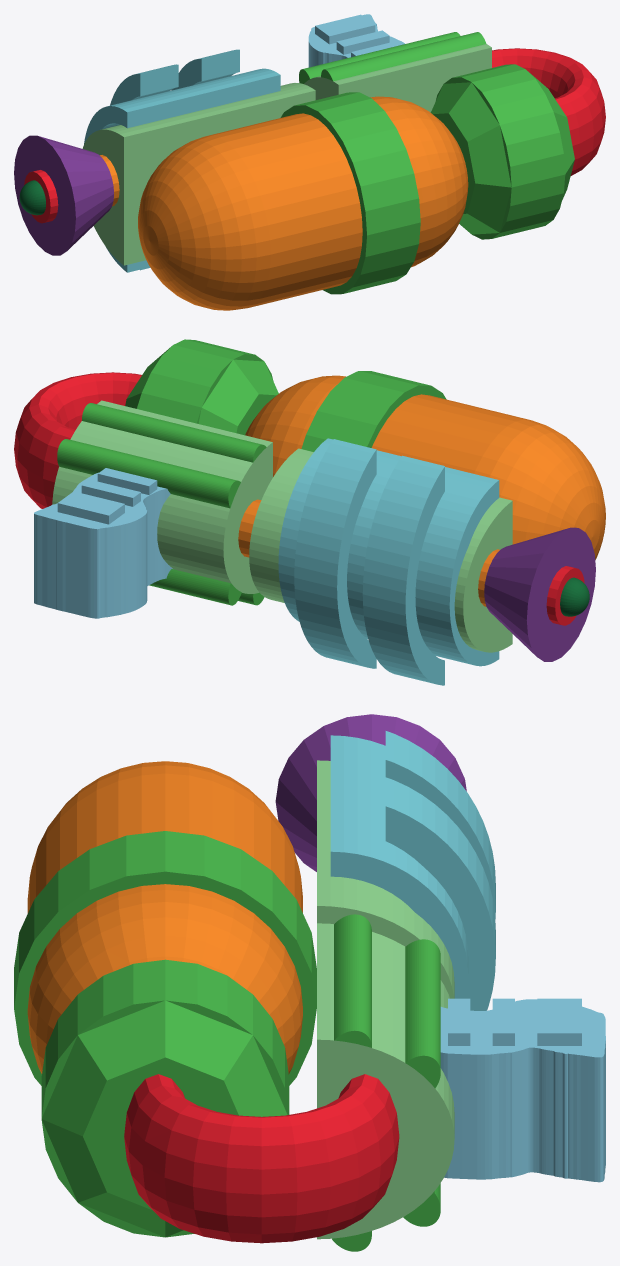
File: tinker.obj
3 renders of one model, top to bottom at view 1: azimuth 30°, elevation 25°; view 2: azimuth 150°, elevation 25°; view 3: azimuth 270°, elevation 25°, orthographic. The views are drawn at different scales.
Parts seen in each view (by area): view 1: group_0_16089887, group_0_4634441, group_0_9229454, group_0_7720667, group_0_8273816, group_0_15277357, group_0_8768998, group_0_1206582; view 2: group_0_7720667, group_0_4634441, group_0_16089887, group_0_9229454, group_0_8768998, group_0_8273816, group_0_15277357, group_0_1206582; view 3: group_0_4634441, group_0_16089887, group_0_15277357, group_0_8768998, group_0_7720667, group_0_9229454, group_0_8273816.
Boxes of the visible parts, box(x1,y1,x2,y2) form: group_0_16089887: box(100, 96, 468, 310); group_0_4634441: box(280, 32, 574, 294); group_0_9229454: box(82, 44, 491, 265); group_0_7720667: box(84, 49, 280, 272); group_0_8273816: box(14, 135, 113, 255); group_0_15277357: box(24, 48, 605, 223); group_0_8768998: box(308, 14, 404, 67); group_0_1206582: box(19, 180, 45, 215); group_0_7720667: box(278, 438, 499, 685); group_0_4634441: box(57, 339, 446, 605); group_0_16089887: box(238, 375, 605, 606); group_0_9229454: box(52, 400, 512, 652); group_0_8768998: box(34, 468, 172, 618); group_0_8273816: box(484, 527, 595, 661); group_0_15277357: box(14, 372, 584, 625); group_0_1206582: box(560, 577, 589, 616); group_0_4634441: box(14, 831, 440, 1251); group_0_16089887: box(27, 761, 302, 1074); group_0_15277357: box(124, 1074, 399, 1243); group_0_8768998: box(440, 998, 605, 1182); group_0_7720667: box(330, 731, 495, 1010); group_0_9229454: box(317, 760, 454, 1239); group_0_8273816: box(275, 714, 466, 871).
Bounding box in the file's own units: 70 × 24.48 × 43.
